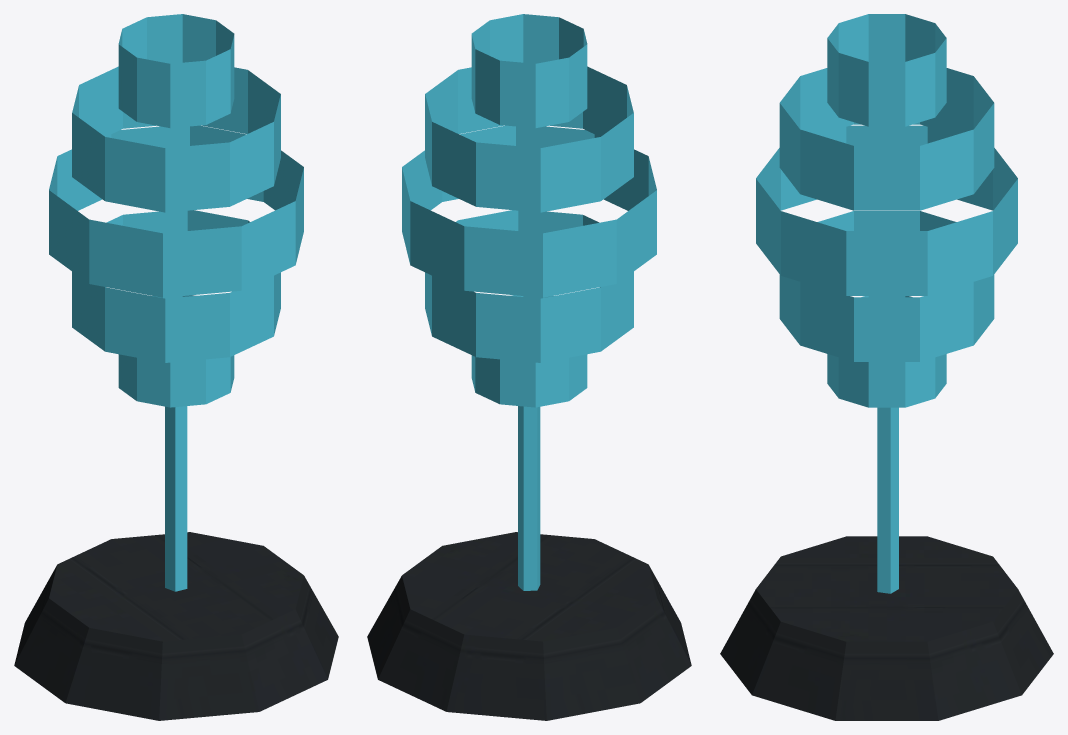
Rendered from hologram_globe_01.glb.
3 views of the same model, side by side, from view 1: azimuth 30°, elevation 25°; view 2: azimuth 150°, elevation 25°; view 3: azimuth 270°, elevation 25° (orthographic).
Parts seen in each view (by area): view 1: hologram_globe_01; view 2: hologram_globe_01; view 3: hologram_globe_01.
Boxes of the visible parts, box(x1,y1,x2,y2) form: hologram_globe_01: box(14, 14, 338, 720); hologram_globe_01: box(367, 14, 691, 720); hologram_globe_01: box(720, 14, 1053, 720).
Size of the model in its own units: 0.5326 by 1.14 by 0.56.
Materials: 2 (1 with a texture image).
